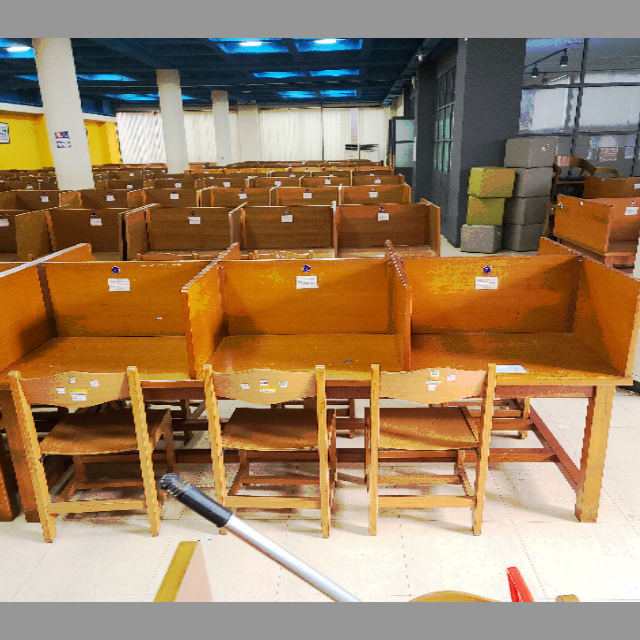empty: (420, 248, 636, 461), (193, 257, 411, 464), (1, 252, 187, 448)
